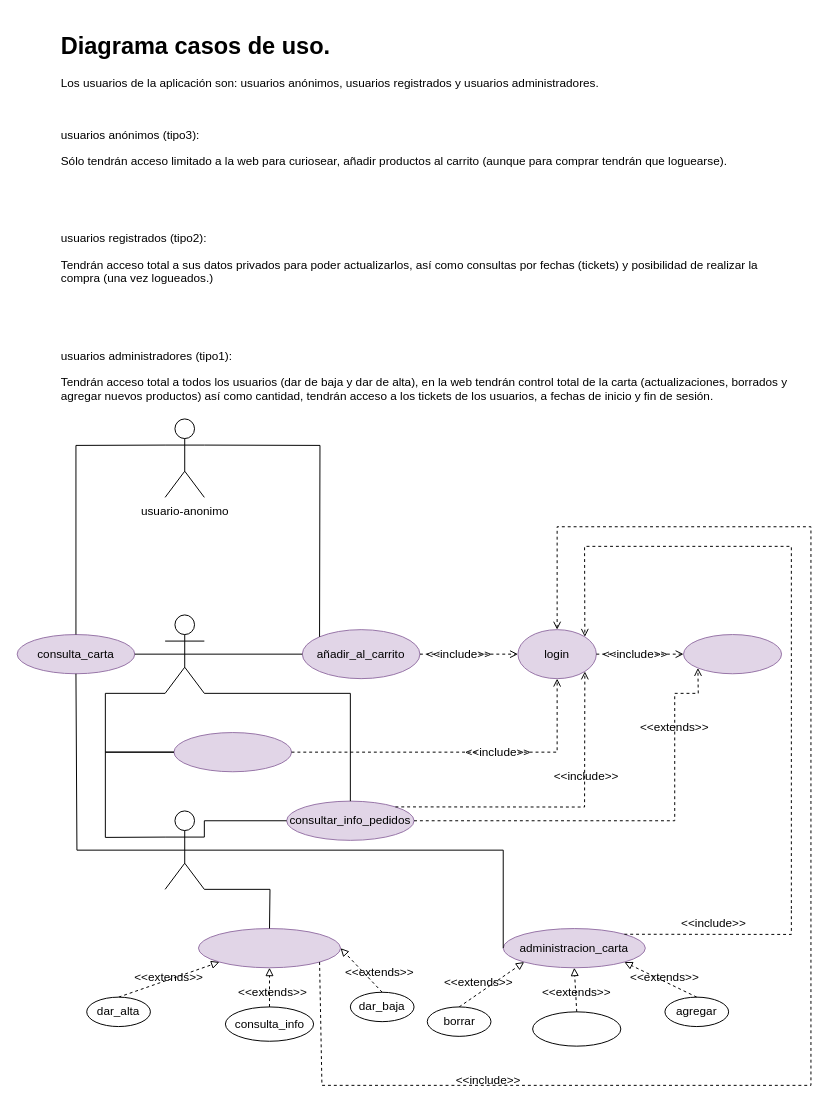
Image size: 836x1111. Some labels were removed from this diagram. The shapes that lost their labels are listed below. From the top down, each one's centre as x and y in pixels, then its label:
(184,653): usuario-registrado
(732,654): pasarela_compra
(232,752): consultar_info_perfil
(184,849): usuario-administrador
(269,948): administracion_usuarios
(576,1028): actualizar
